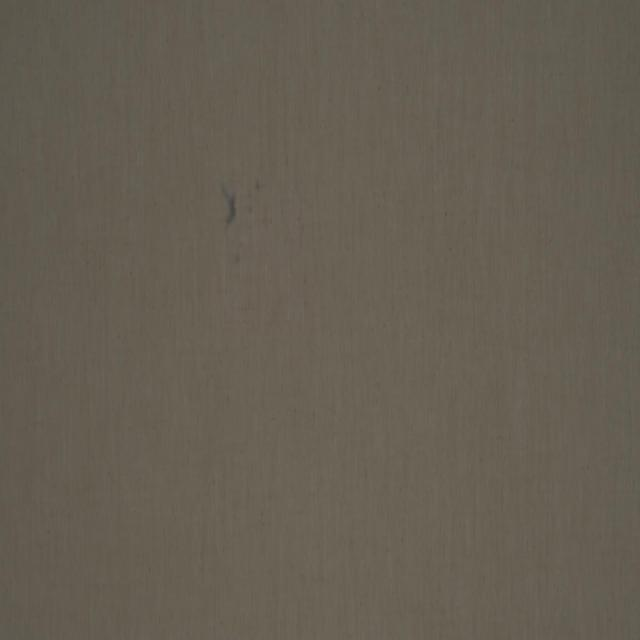dirty: (220, 188, 237, 226)
